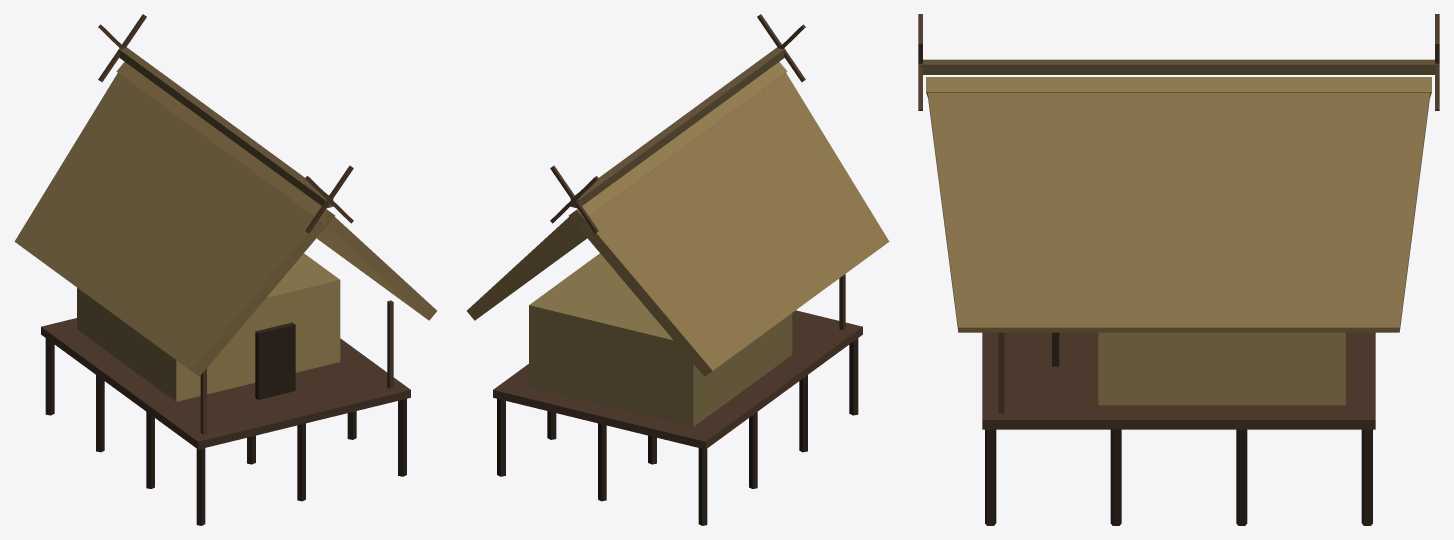
The model's file is tide_house.glb.
3 renders of one model, left to right at view 1: azimuth 30°, elevation 25°; view 2: azimuth 150°, elevation 25°; view 3: azimuth 270°, elevation 25°, orthographic. The views are drawn at different scales.
Visible parts, largest first — view 1: tide_house; view 2: tide_house; view 3: tide_house.
Part boxes in pixels (<box>): tide_house: <box>14,14,436,525</box>; tide_house: <box>467,14,889,525</box>; tide_house: <box>918,14,1439,525</box>.
Bounding box in the file's own units: 6.6 × 8.93 × 9.68.
1 material, 1 textured.
